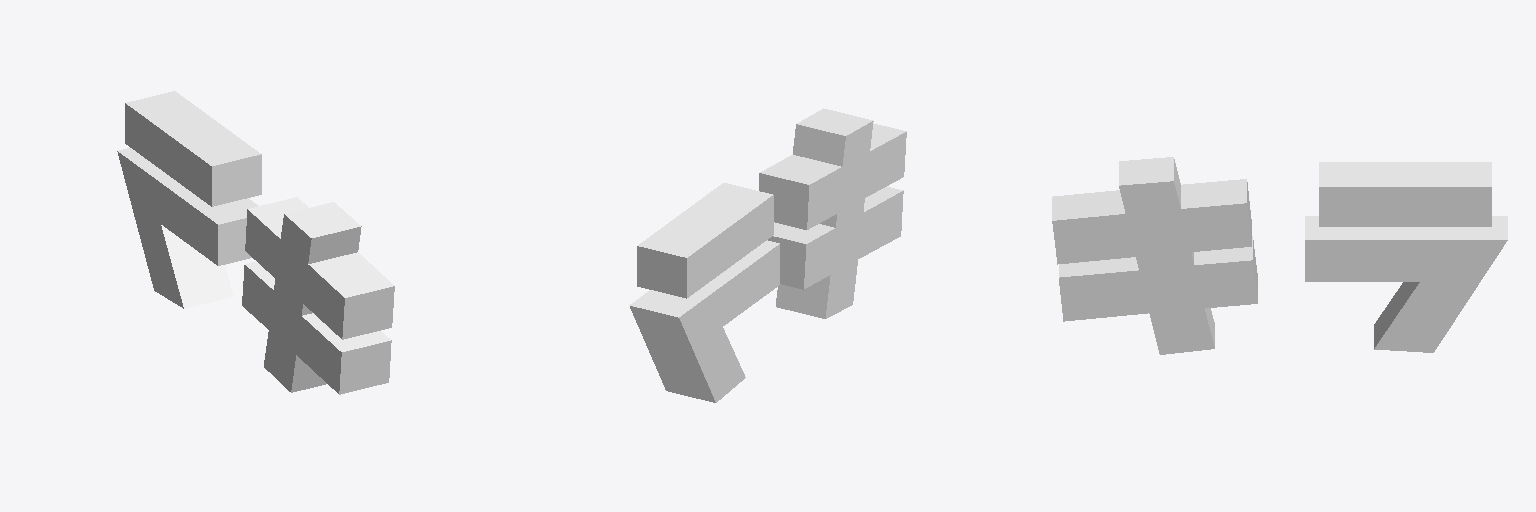
The picture shows the model from 3 angles: view 1: azimuth 30°, elevation 25°; view 2: azimuth 150°, elevation 25°; view 3: azimuth 270°, elevation 25°; orthographic projection.
Parts seen in each view (by area): view 1: テキスト.001, テキスト.002; view 2: テキスト.002, テキスト.001; view 3: テキスト.001, テキスト.002.
Boxes of the visible parts, <box> form: テキスト.001: <box>242,197,394,394</box>; テキスト.002: <box>117,91,261,308</box>; テキスト.002: <box>629,183,779,402</box>; テキスト.001: <box>759,108,906,318</box>; テキスト.001: <box>1052,157,1257,354</box>; テキスト.002: <box>1305,162,1507,352</box>.
Size of the model in its own units: 0.2738 by 0.9113 by 2.16.
Materials: 2 (1 with a texture image).